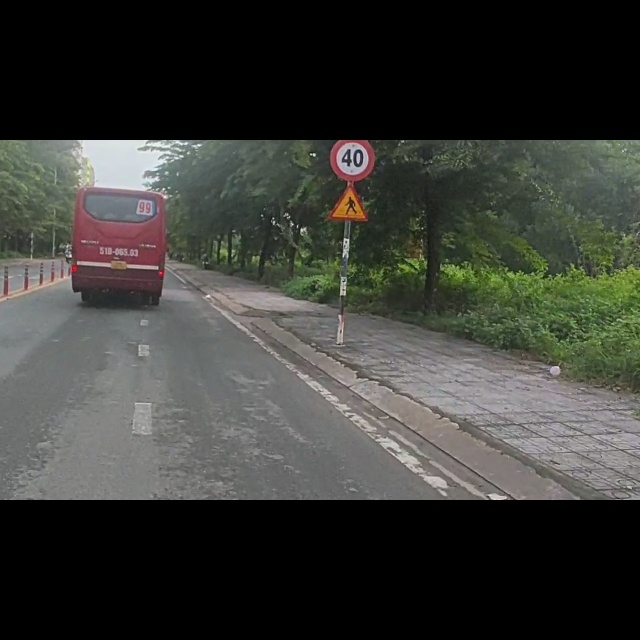bien_nguy_hiem: (331, 2, 375, 71), (326, 83, 371, 143)
